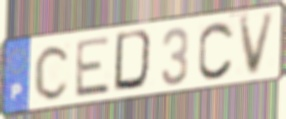3: (160, 25, 190, 87)
C: (196, 20, 236, 82), (33, 42, 73, 103)
D: (112, 27, 157, 94)
E: (74, 34, 113, 100)
V: (237, 10, 278, 79)
